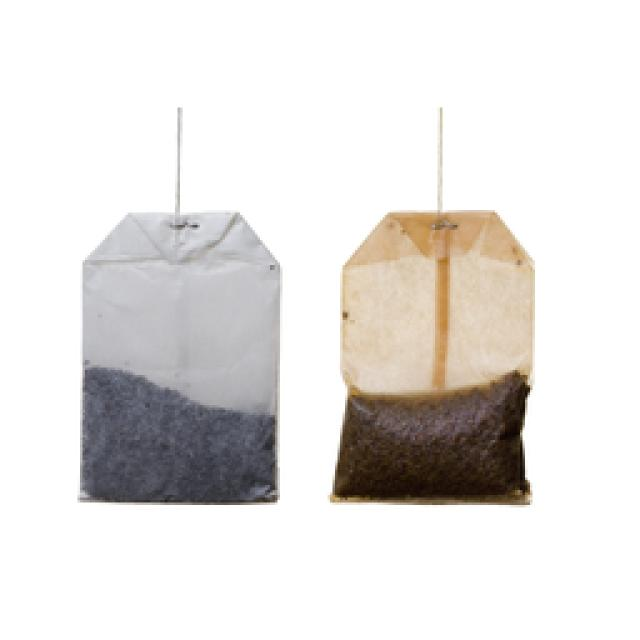tea-bags: (331, 210, 536, 504), (79, 210, 283, 500)
